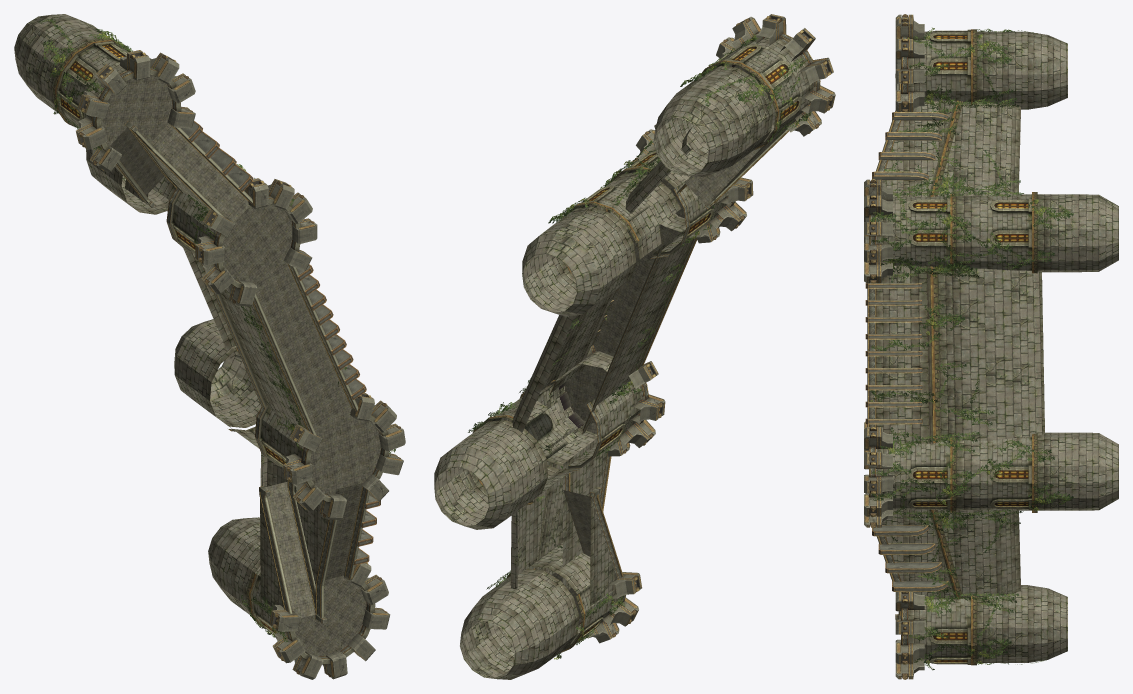
File: zhucheng_yewai_291_chengqiang_01.obj
3 views of the same model, side by side, from view 1: azimuth 30°, elevation 25°; view 2: azimuth 150°, elevation 25°; view 3: azimuth 270°, elevation 25° (orthographic). The views are drawn at different scales.
Visible parts, largest first — view 1: zhucheng_yewai_291_chengqiang_01, zhucheng_yewai_291_chengqiang_01_zhiwu; view 2: zhucheng_yewai_291_chengqiang_01, zhucheng_yewai_291_chengqiang_01_zhiwu; view 3: zhucheng_yewai_291_chengqiang_01, zhucheng_yewai_291_chengqiang_01_zhiwu.
Boxes of the visible parts, x1,y1,x2,y2 form: zhucheng_yewai_291_chengqiang_01: [14, 14, 405, 679]; zhucheng_yewai_291_chengqiang_01_zhiwu: [38, 18, 395, 641]; zhucheng_yewai_291_chengqiang_01: [434, 14, 835, 679]; zhucheng_yewai_291_chengqiang_01_zhiwu: [457, 34, 811, 659]; zhucheng_yewai_291_chengqiang_01: [864, 14, 1118, 679]; zhucheng_yewai_291_chengqiang_01_zhiwu: [869, 27, 1073, 670].
Bounding box in the file's own units: 2057 × 4283 × 1722.
Materials: 15 (15 with a texture image).
